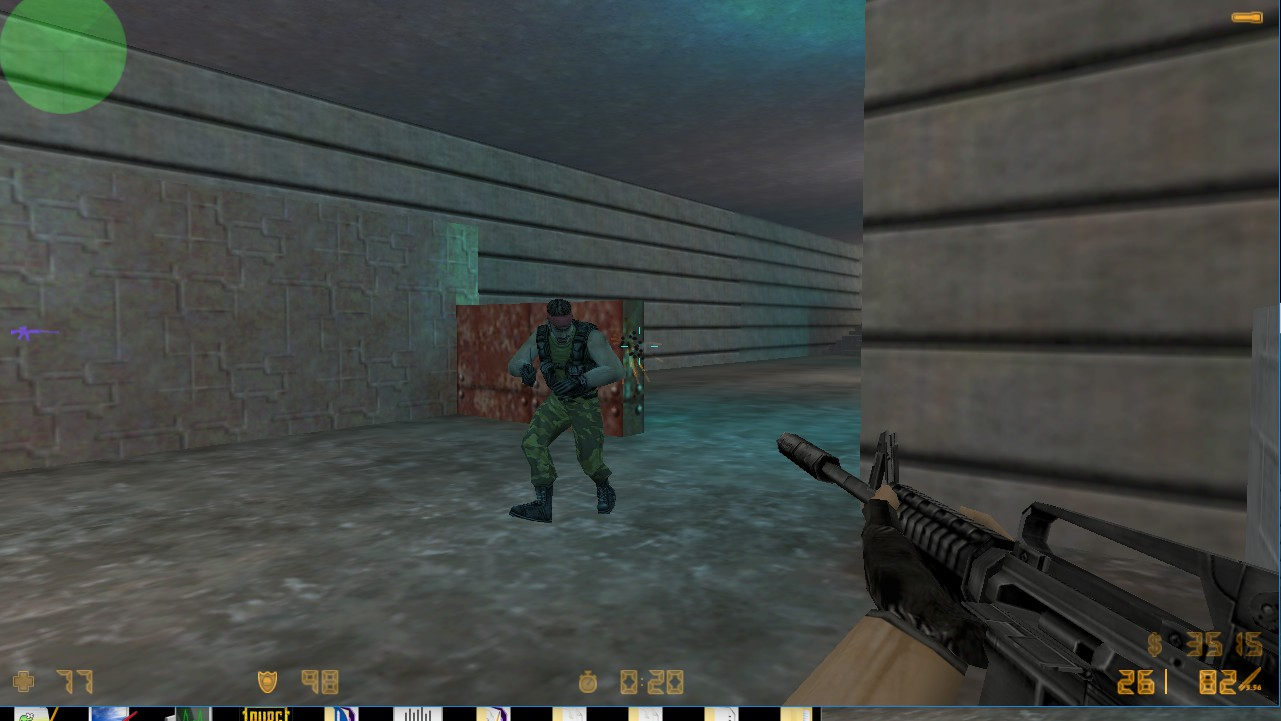person: (511, 296, 620, 526)
